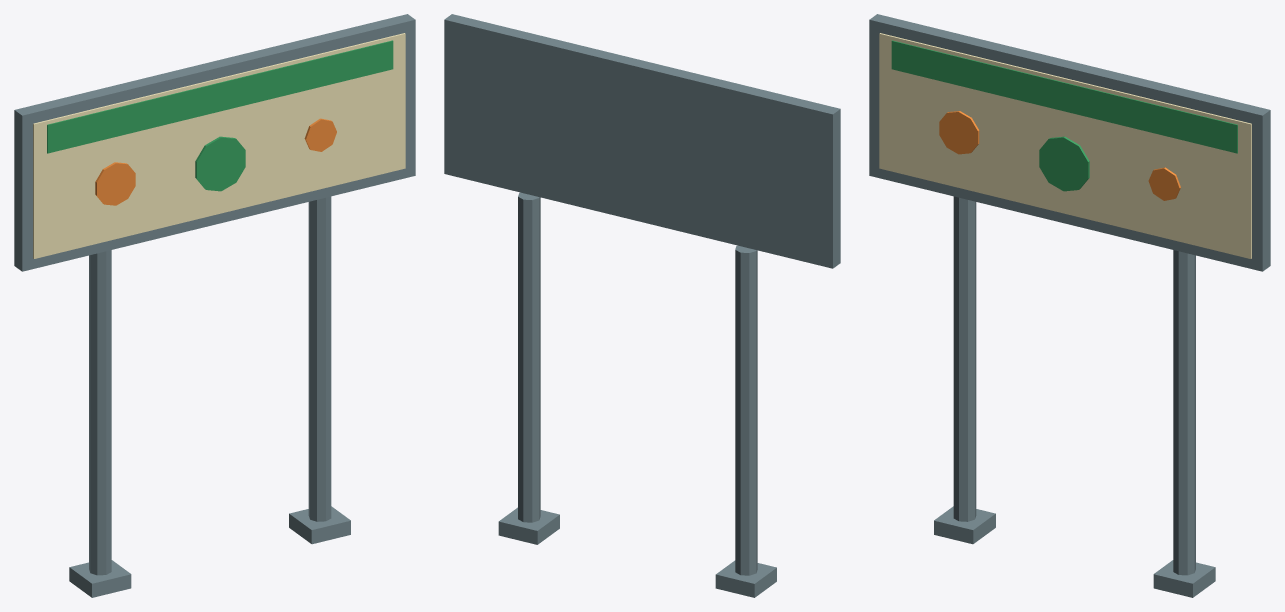
File: FTF_Building_SupermarketBillboard_Giant_7m.glb
3 renders of one model, left to right at view 1: azimuth 30°, elevation 25°; view 2: azimuth 150°, elevation 25°; view 3: azimuth 330°, elevation 25°, orthographic.
Visible parts, largest first — view 1: FTF_Building_SupermarketBillboard_Giant_7m_Mesh; view 2: FTF_Building_SupermarketBillboard_Giant_7m_Mesh; view 3: FTF_Building_SupermarketBillboard_Giant_7m_Mesh.
Part boxes in pixels (x1,y1,x2,y2): FTF_Building_SupermarketBillboard_Giant_7m_Mesh: (14,14,415,597); FTF_Building_SupermarketBillboard_Giant_7m_Mesh: (444,14,840,597); FTF_Building_SupermarketBillboard_Giant_7m_Mesh: (869,14,1270,597).
Size of the model in its own units: 5.8 by 7 by 0.58.
